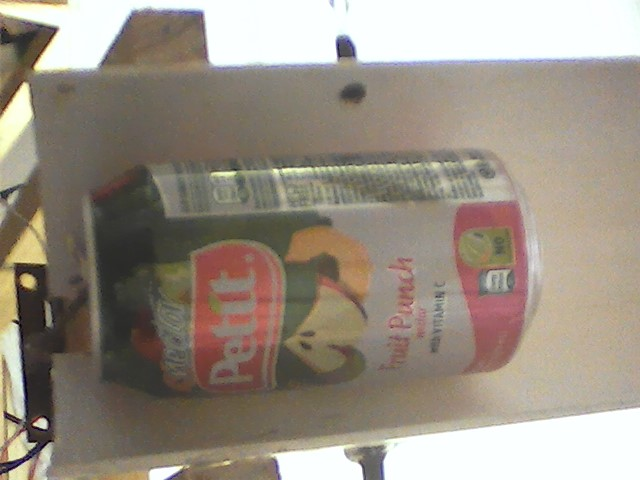lata: (81, 144, 550, 407)
